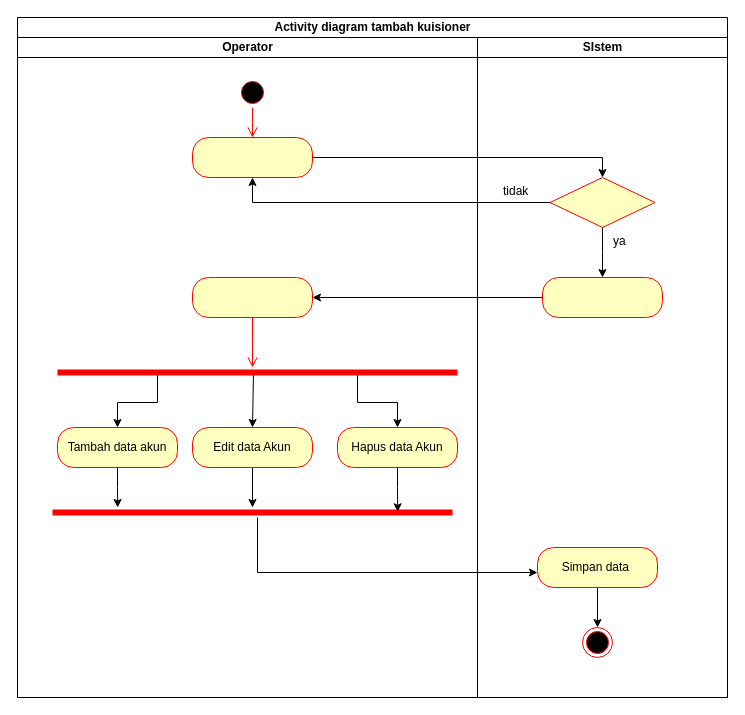
Image size: 745x715. Some labels were removed from this diagram. The box of each missing label's shape, as (x1, y1, x2, y2) in pixels:
cek data user: (549, 176, 655, 228)
Login: (192, 136, 312, 178)
Menampilkan Halaman dashboard: (542, 276, 662, 318)
Mengakses menu akun: (192, 276, 312, 318)
